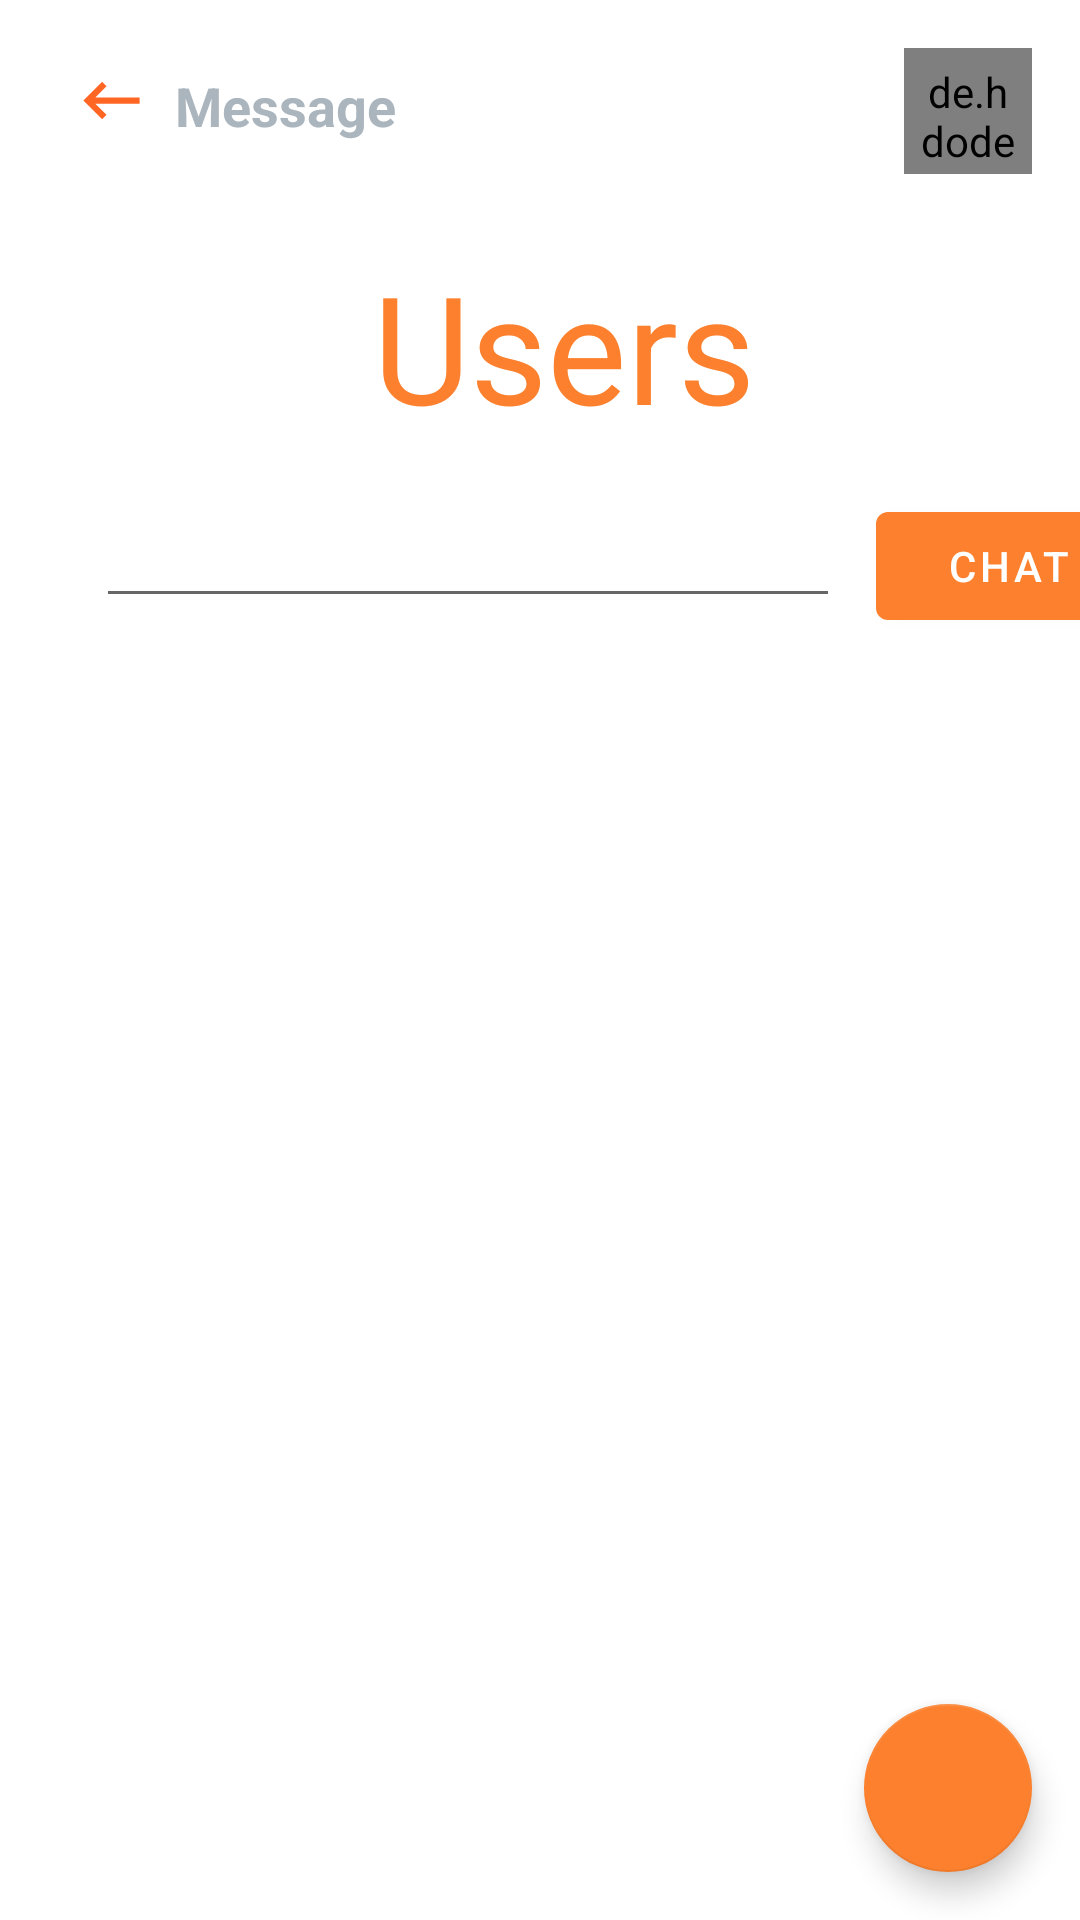

Named icons in this screenshot (1080px×1920px) and their bounding boxes, (x1, y1, x2, y2):
back: (83, 82, 140, 119)
